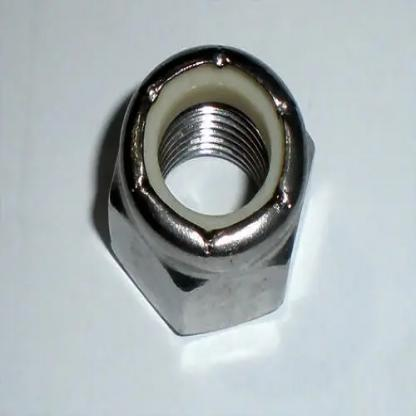FOD: (89, 28, 339, 349)
